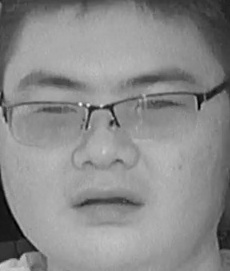eye: (131, 95, 175, 113)
glass: (5, 97, 92, 150), (110, 92, 202, 140)
mouth: (66, 182, 141, 226)
